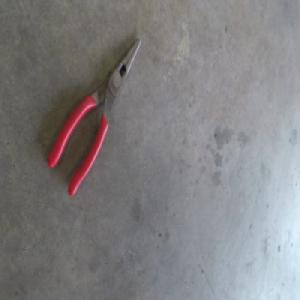Pliers: (55, 36, 149, 195)
